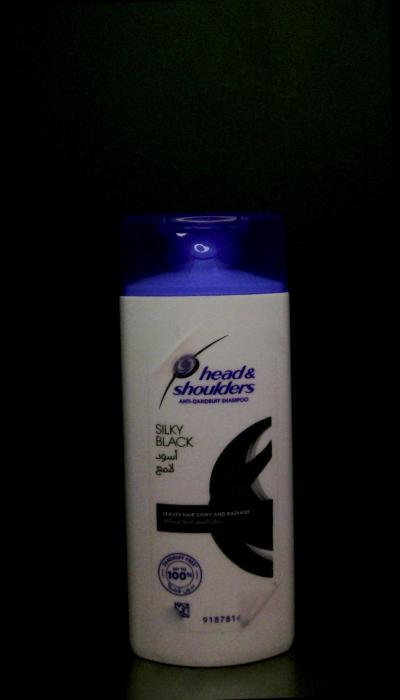adhesion_unacc: (149, 327, 203, 381), (233, 580, 282, 634), (152, 602, 192, 638)
